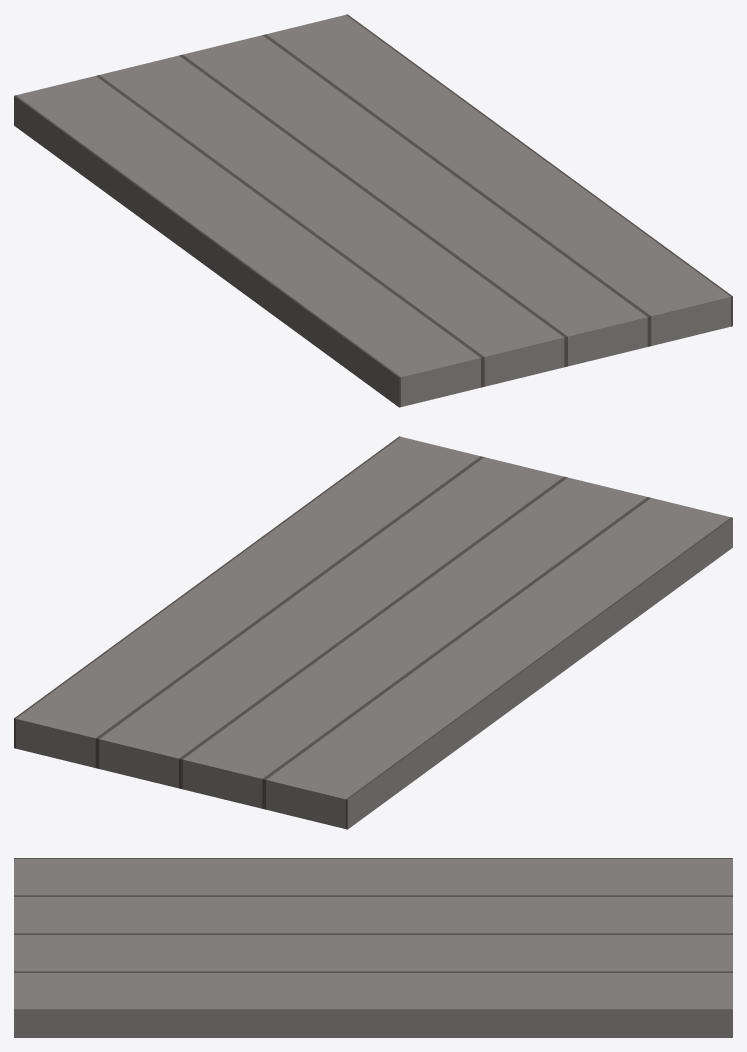
The model's file is Floor_17.fbx.
The picture shows the model from 3 angles, top to bottom: view 1: azimuth 30°, elevation 25°; view 2: azimuth 150°, elevation 25°; view 3: azimuth 270°, elevation 25°; orthographic projection. The views are drawn at different scales.
Visible parts, largest first — view 1: Floor_17; view 2: Floor_17; view 3: Floor_17.
Part boxes in pixels (x1,y1,x2,y2): Floor_17: (14, 14, 732, 407); Floor_17: (14, 436, 732, 829); Floor_17: (14, 858, 732, 1037).
Bounding box in the file's own units: 130 × 11.07 × 259.
